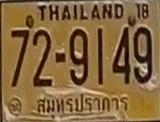1: (98, 28, 102, 85)
2: (32, 29, 51, 86)
4: (112, 26, 130, 83)
7: (10, 29, 29, 86)
9: (133, 26, 152, 82), (69, 28, 87, 84)
SPK: (31, 90, 134, 119)
